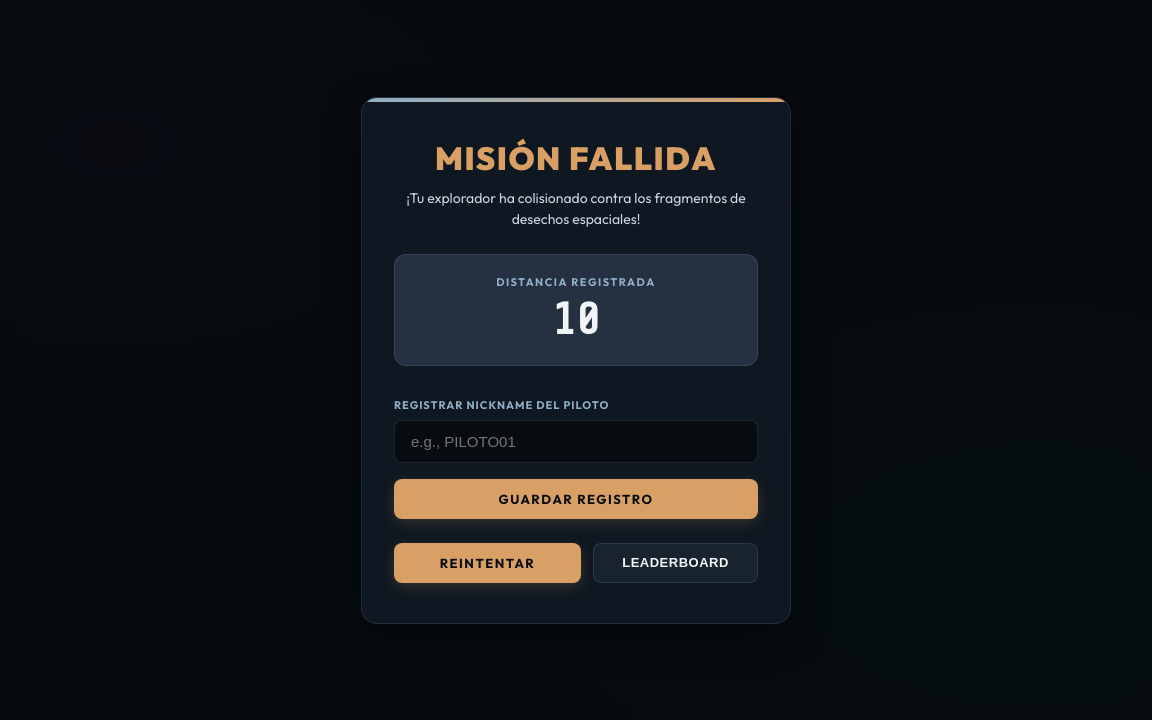
Test: <GameOverModal /> › falls back to localStorage and shows a fallback notice on network failure
The width and height of the screenshot is (1152, 720).
Type "FALLBACK_NICK" into the field labelled "Registrar Nickname del Piloto". click: coordinates (576, 441)
box: [394,420,758,462]
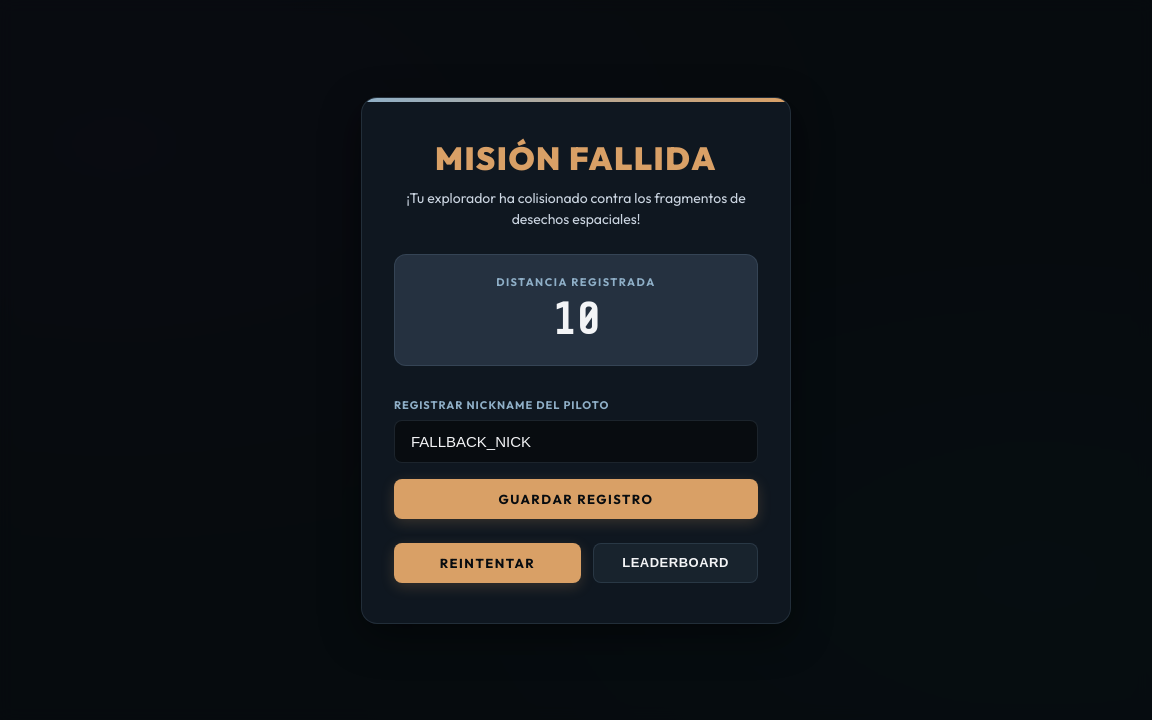
Click the button "Guardar Registro". click: coordinates (576, 498)
box: [394,478,758,518]
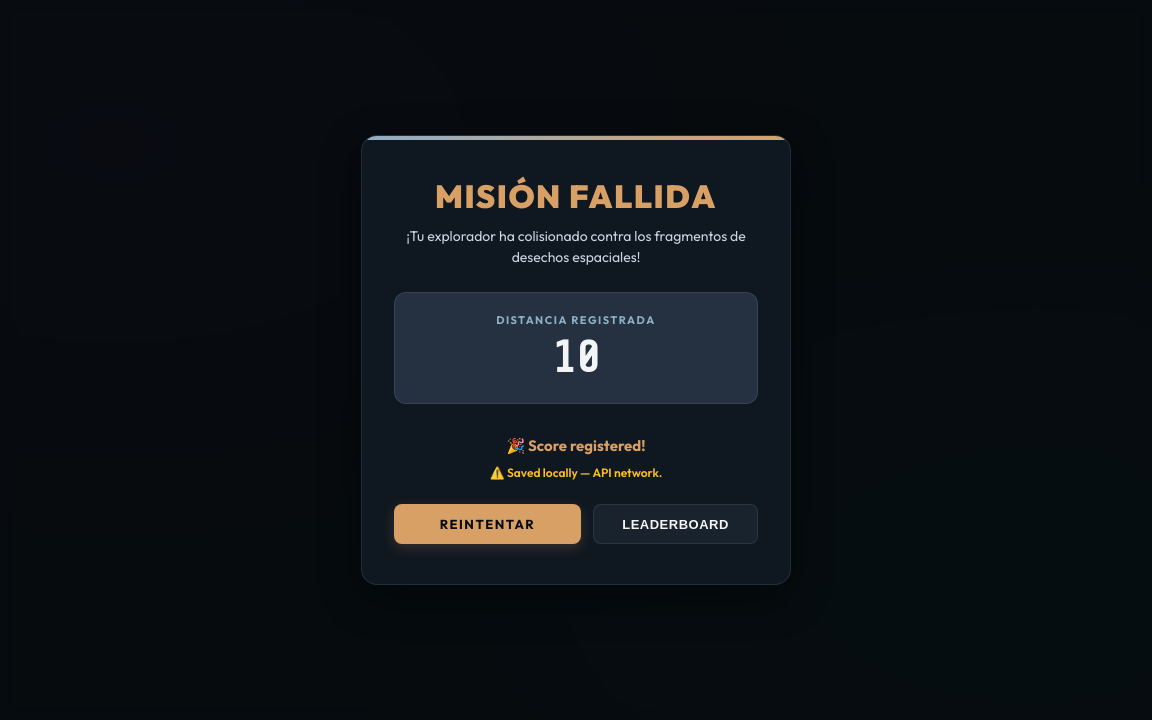
expect the text with test id "success-message" shows "registered": met, box [528,436,646,455]
expect the text with test id "fallback-notice" shows "API network": met, box [507,465,662,480]
